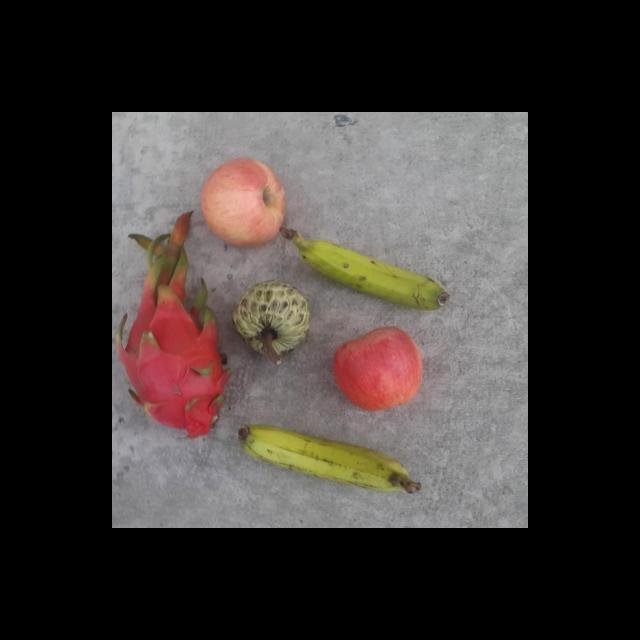Sakya fruit: (232, 277, 310, 357)
apple: (331, 324, 425, 412), (200, 156, 288, 248)
banana: (280, 226, 451, 311), (235, 424, 420, 496)
pitaya: (116, 274, 234, 441)
